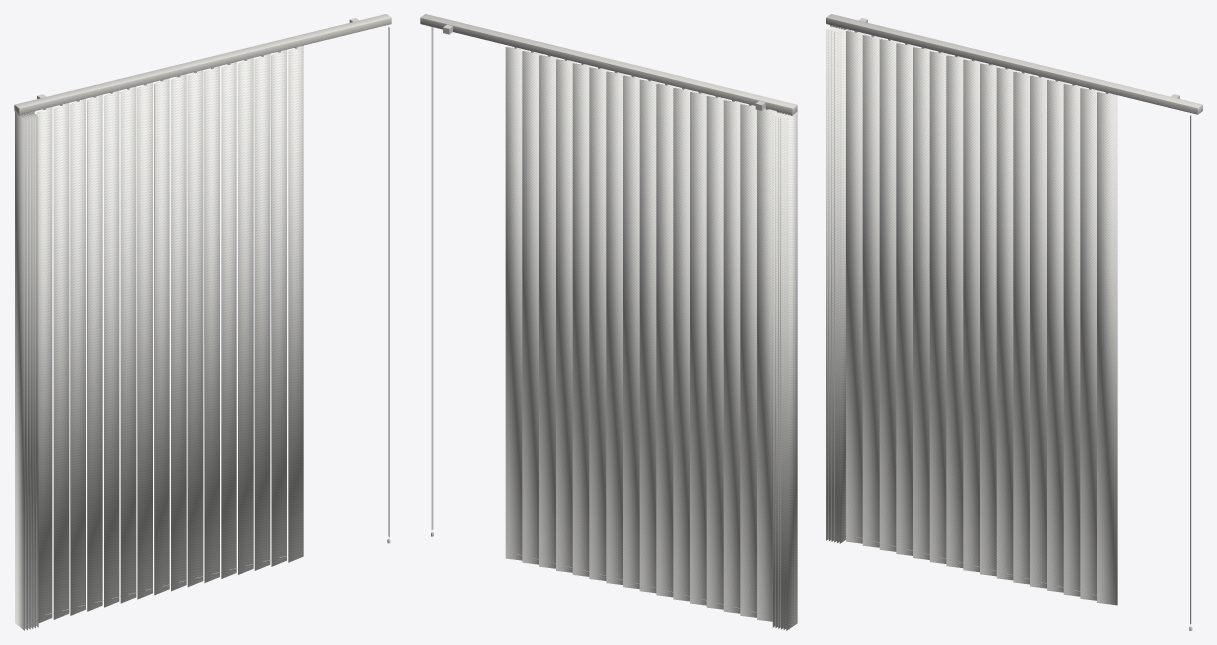
Rendered from cortina_vertical_180_c75.glb.
3 renders of one model, left to right at view 1: azimuth 30°, elevation 25°; view 2: azimuth 150°, elevation 25°; view 3: azimuth 330°, elevation 25°, orthographic.
Visible parts, largest first — view 1: cortina_vertical_180_c75; view 2: cortina_vertical_180_c75; view 3: cortina_vertical_180_c75.
Part boxes in pixels (box(x1,y1,x2,y2)): cortina_vertical_180_c75: box(14, 14, 391, 630); cortina_vertical_180_c75: box(420, 14, 797, 630); cortina_vertical_180_c75: box(826, 14, 1202, 630).
Size of the model in its own units: 1.79 by 2.4 by 0.0996.
Materials: 3 (1 with a texture image).
